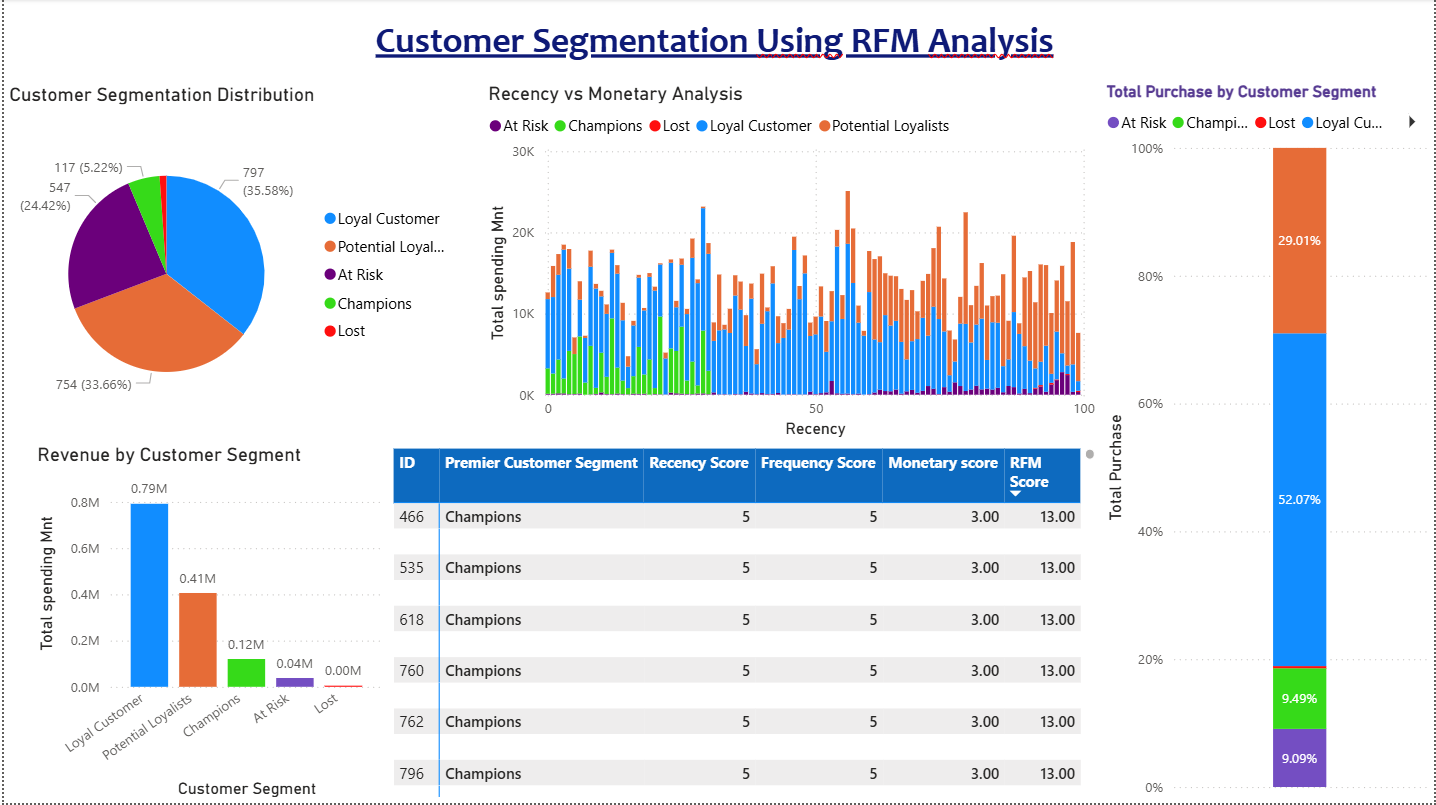

The dashboard page shown, as its layout file describes it:
{"tool":"powerbi","page":{"name":"RFM Dashboard","canvas":[1280,720],"ordinal":1},"visuals":[{"type":"pieChart","title":"Customer Segmentation Distribution","fields":{"Y":["marketing_campaign.Total Customers"],"Category":["marketing_campaign.Customer Segment"]},"box":[0,74.8,411.8,322.8],"z":0},{"type":"clusteredColumnChart","title":"Revenue by Customer Segment","fields":{"Category":["marketing_campaign.Customer Segment"],"Y":["marketing_campaign.Total spending Mnt"]},"box":[24.8,397.7,319.2,322.3],"z":1000},{"type":"columnChart","title":"Recency vs Monetary Analysis","fields":{"Category":["marketing_campaign.Recency"],"Y":["marketing_campaign.Total spending Mnt"],"Series":["marketing_campaign.Customer Segment"]},"box":[428.7,74.4,553.7,323.4],"z":2000},{"type":"pivotTable","fields":{"Values":["Min(marketing_campaign.Customer Segment)","marketing_campaign.R Score","marketing_campaign.F Score","marketing_campaign.M score","marketing_campaign.RFM Score","select"],"Rows":["marketing_campaign.ID"]},"box":[344,397.7,638.5,322.3],"z":3000},{"type":"hundredPercentStackedColumnChart","title":"Total Purchase by Customer Segment","fields":{"Y":["marketing_campaign.Total Purchase"],"Series":["marketing_campaign.Customer Segment"]},"box":[982.5,74.4,297.5,645.7],"z":4000},{"type":"textbox","box":[10.3,12.4,1251.1,50.6],"z":5000}]}

Visuals, with their boxes in screenshot pixels (x1, y1, x2, y2), scaled from the page's 1280x720 canvas onto the 1436x805 screenshot:
"Customer Segmentation Distribution" pieChart: x1=0, y1=84, x2=462, y2=445
"Revenue by Customer Segment" clusteredColumnChart: x1=28, y1=445, x2=386, y2=804
"Recency vs Monetary Analysis" columnChart: x1=481, y1=83, x2=1102, y2=445
pivotTable - Min(marketing_campaign.Customer Segment) x marketing_campaign.R Score: x1=386, y1=445, x2=1102, y2=804
"Total Purchase by Customer Segment" hundredPercentStackedColumnChart: x1=1102, y1=83, x2=1435, y2=804
textbox: x1=12, y1=14, x2=1415, y2=70
